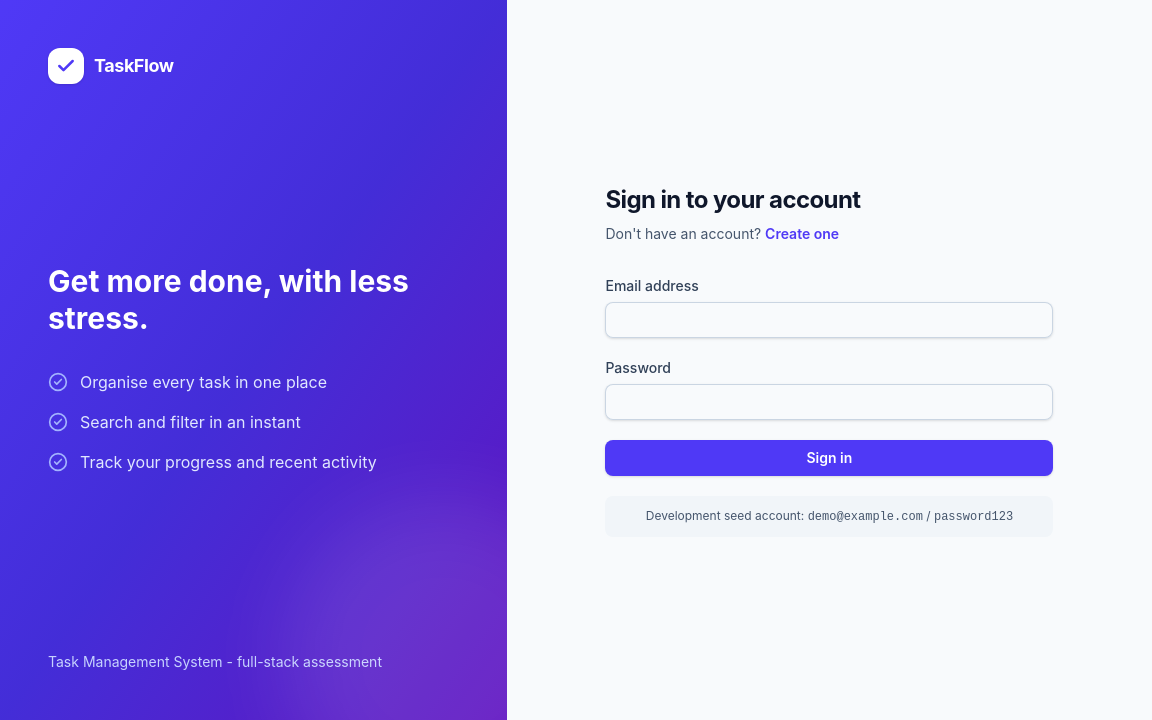
LoginPage › validates the email format
In the field labelled "Email address": coordinates (829, 320) [605,302,1053,338], type "not-an-email"
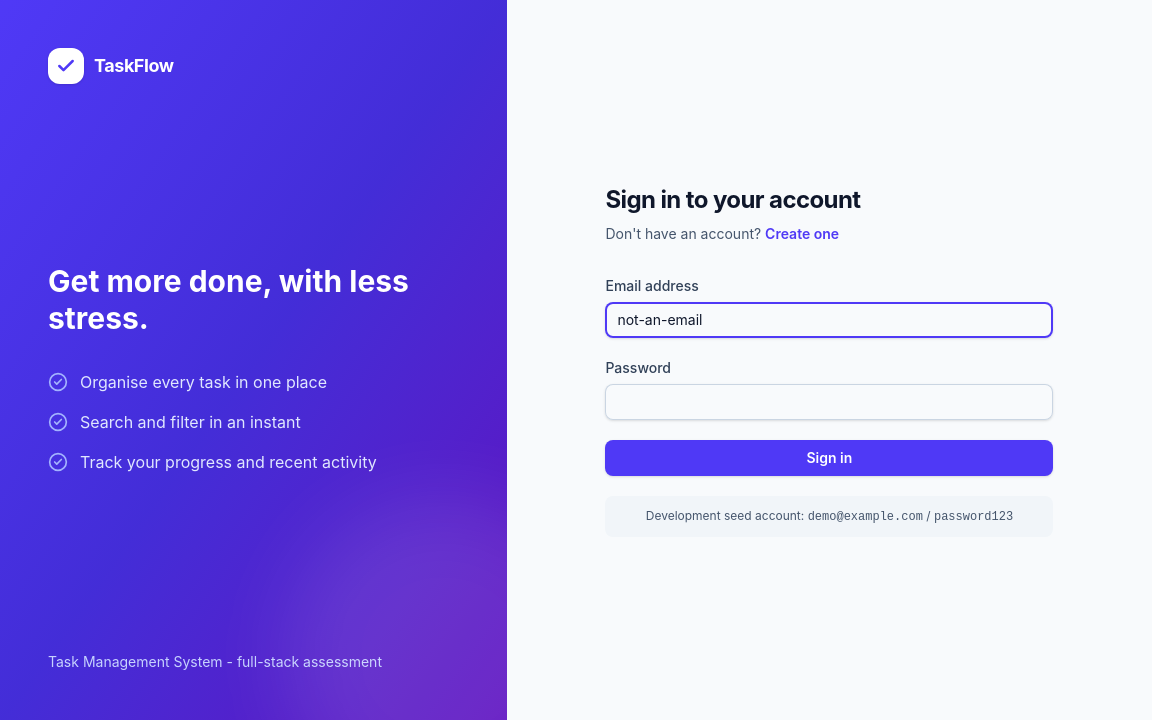
In the password field labelled "Password": coordinates (829, 402) [605,384,1053,420], type "secret"
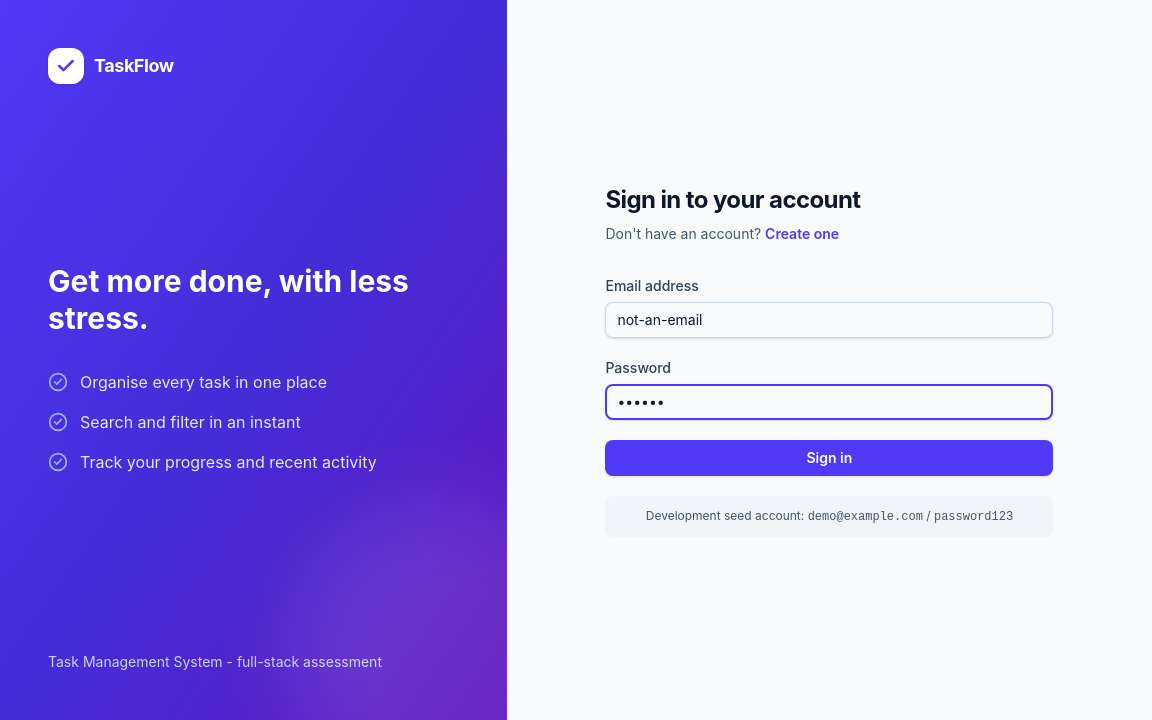
Click the button "Sign in": coordinates (829, 458) [605,440,1053,476]
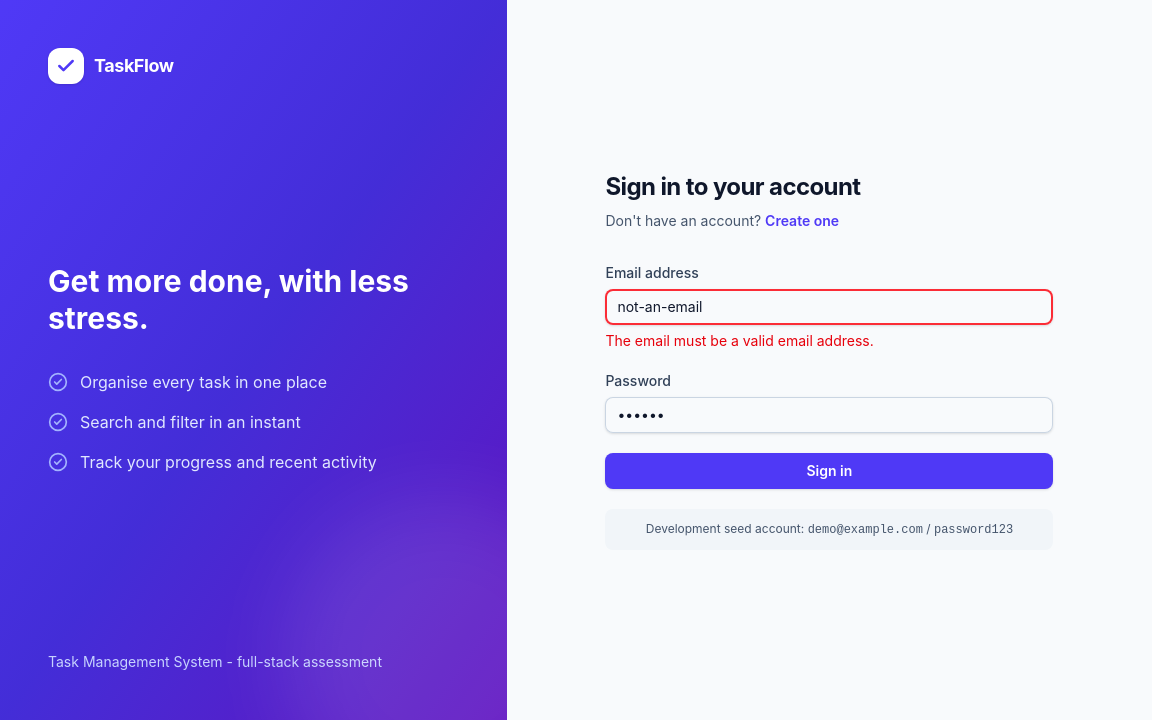
Expected: the text "The email must be a valid email address." is shown, [605,332,874,348]
